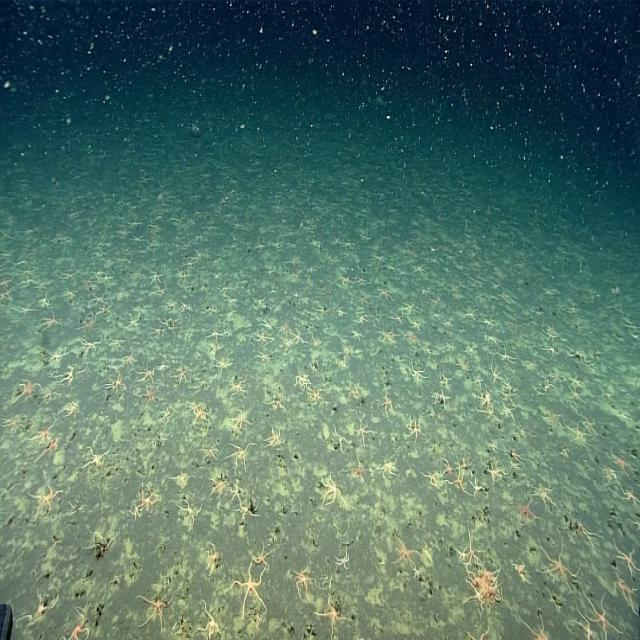brittle-stars: (230, 570, 269, 614), (542, 540, 576, 586), (136, 586, 172, 627), (190, 598, 224, 640), (616, 573, 640, 624), (470, 572, 501, 611), (316, 598, 348, 634), (321, 470, 348, 512), (26, 587, 54, 626), (572, 601, 598, 640), (65, 602, 90, 640), (397, 532, 418, 577), (234, 495, 261, 526), (186, 398, 212, 430), (592, 601, 616, 635), (327, 427, 352, 459), (526, 612, 554, 640), (84, 445, 109, 475), (248, 548, 273, 578), (294, 566, 315, 601), (42, 314, 70, 339), (348, 380, 368, 415), (180, 494, 199, 530), (566, 425, 590, 452), (78, 336, 100, 365), (612, 453, 634, 482), (37, 483, 58, 513), (137, 487, 158, 517), (478, 389, 496, 424), (572, 345, 597, 370), (514, 503, 538, 529), (232, 446, 254, 474), (536, 484, 558, 512), (563, 295, 585, 323), (517, 354, 542, 378), (356, 422, 378, 449), (384, 384, 398, 426), (352, 456, 368, 492), (624, 480, 640, 516), (171, 359, 190, 389), (408, 419, 428, 447), (480, 313, 500, 341), (205, 545, 222, 577), (620, 554, 640, 581), (380, 452, 399, 480), (294, 365, 310, 398), (228, 377, 249, 402), (232, 408, 250, 437), (335, 546, 352, 576), (134, 365, 158, 386), (18, 376, 36, 403), (32, 425, 52, 449), (499, 344, 516, 372), (257, 348, 275, 374), (466, 538, 481, 569), (210, 475, 230, 498), (140, 384, 159, 408), (268, 395, 287, 419), (201, 440, 219, 465), (280, 320, 300, 342), (570, 390, 590, 412), (266, 427, 284, 451), (543, 406, 561, 430), (106, 370, 123, 395), (52, 345, 66, 375), (470, 474, 485, 502), (208, 324, 224, 349), (80, 317, 100, 337), (36, 294, 55, 315), (468, 273, 484, 297), (43, 438, 63, 457), (430, 390, 450, 409), (216, 359, 234, 380), (544, 321, 561, 343), (461, 628, 492, 640), (251, 333, 274, 349), (92, 291, 108, 314), (356, 288, 372, 311), (400, 296, 415, 320), (354, 326, 368, 351), (465, 303, 480, 326), (120, 351, 138, 370), (509, 448, 522, 474), (64, 402, 80, 423), (514, 564, 530, 585), (257, 294, 268, 324), (127, 500, 145, 518), (450, 475, 468, 493), (406, 366, 424, 384), (541, 373, 553, 400), (109, 335, 128, 352), (287, 252, 306, 269), (152, 323, 172, 339), (156, 356, 170, 378), (573, 368, 587, 390), (455, 355, 467, 380), (572, 320, 585, 343), (428, 466, 439, 493), (490, 364, 504, 385), (380, 329, 397, 346), (178, 473, 194, 491), (356, 270, 370, 290), (489, 467, 502, 488), (504, 404, 518, 423), (446, 455, 456, 481), (123, 313, 139, 329), (178, 299, 193, 316), (152, 285, 167, 302), (436, 371, 450, 389), (413, 262, 427, 280), (44, 387, 58, 404), (65, 368, 79, 385), (61, 268, 78, 282), (98, 308, 116, 321), (376, 286, 389, 304), (332, 307, 346, 323), (310, 388, 322, 406), (461, 453, 471, 474), (353, 314, 368, 327), (546, 346, 562, 358), (429, 300, 442, 314), (64, 290, 77, 304), (152, 267, 162, 285)
